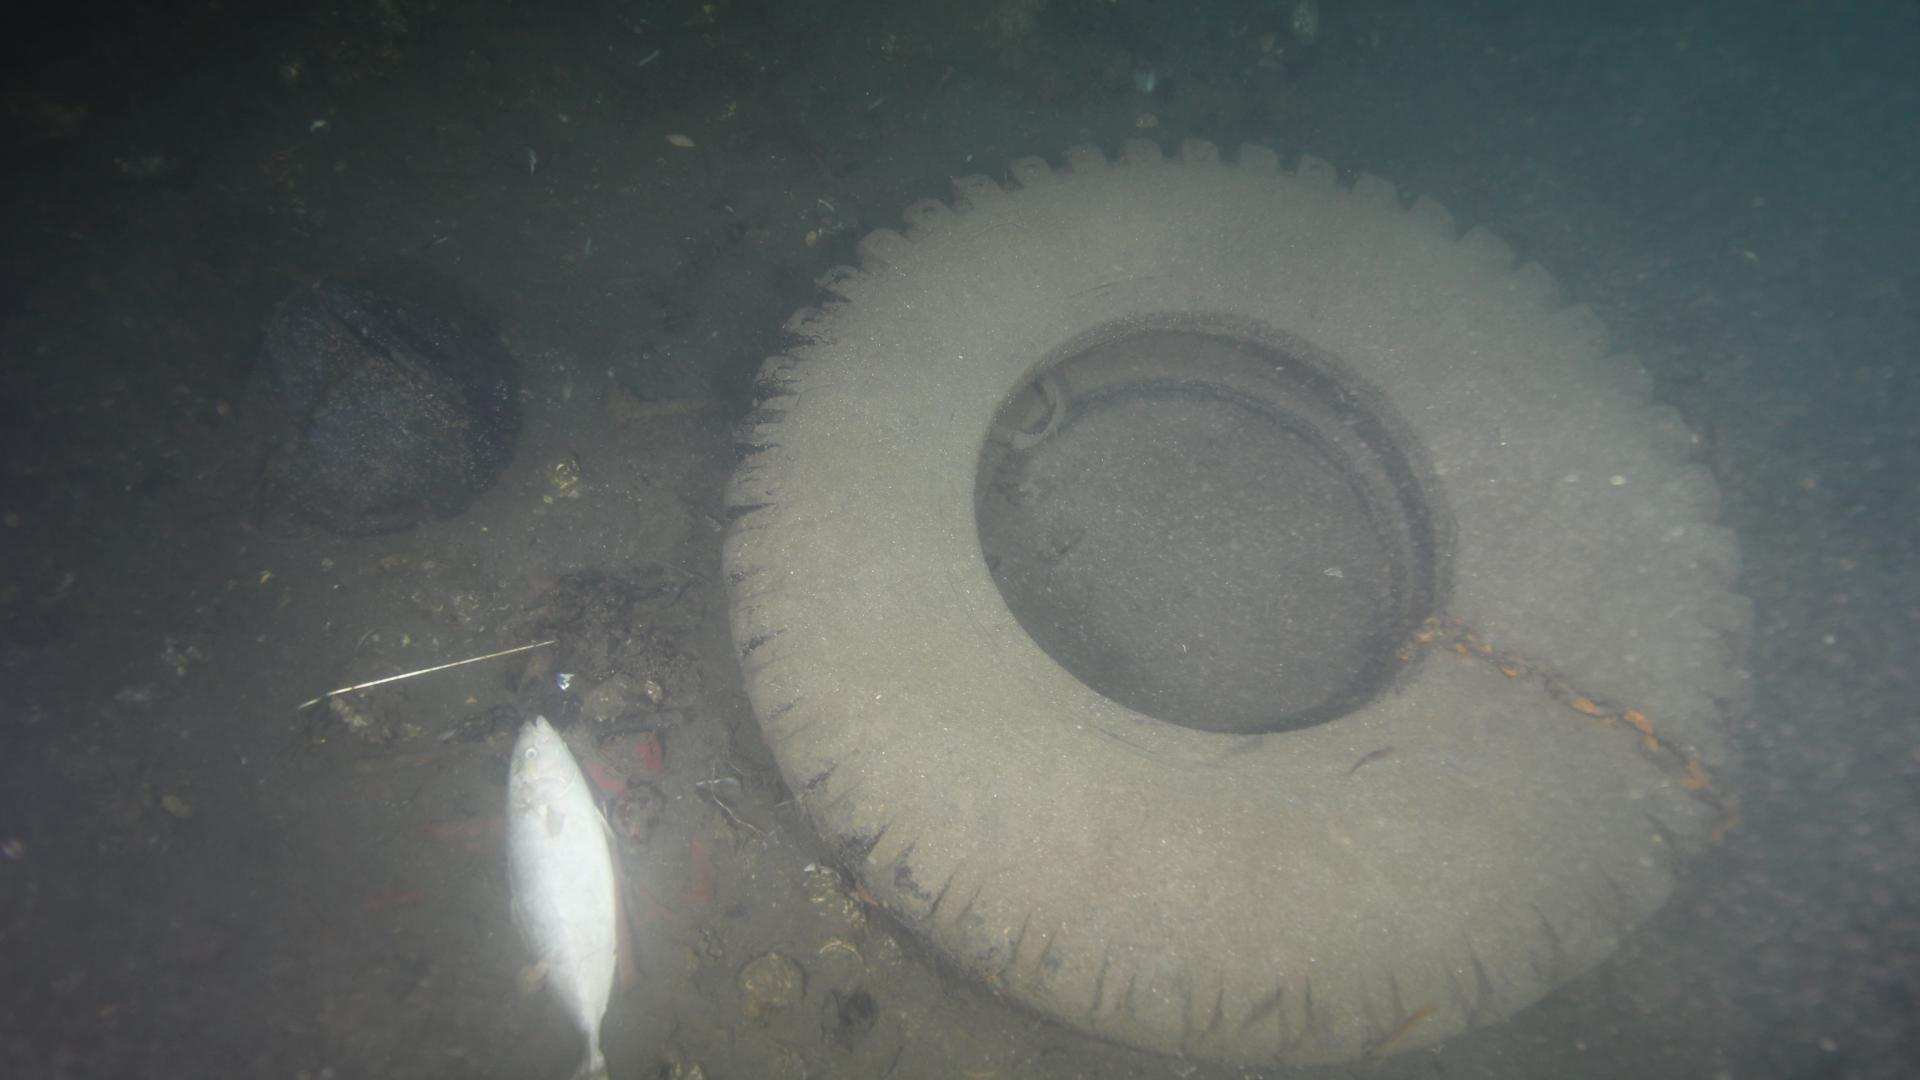tire: (719, 131, 1771, 1062)
